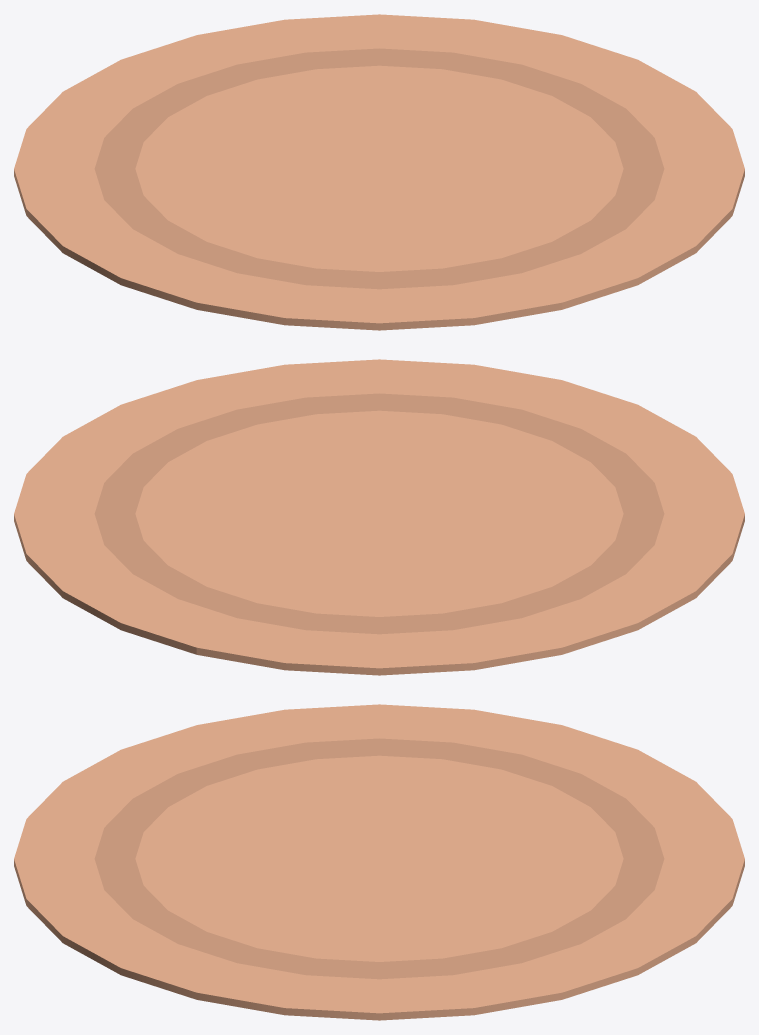
Rendered from rugRound.glb.
The picture shows the model from 3 angles, top to bottom: view 1: azimuth 30°, elevation 25°; view 2: azimuth 150°, elevation 25°; view 3: azimuth 270°, elevation 25°; orthographic projection.
Parts seen in each view (by area): view 1: rugRound; view 2: rugRound; view 3: rugRound.
Part boxes in pixels (left/top/right/bottom): rugRound: left=14, top=14, right=744, bottom=330; rugRound: left=14, top=359, right=744, bottom=675; rugRound: left=14, top=704, right=744, bottom=1020.
Size of the model in its own units: 9.2 by 0.1 by 9.2.
